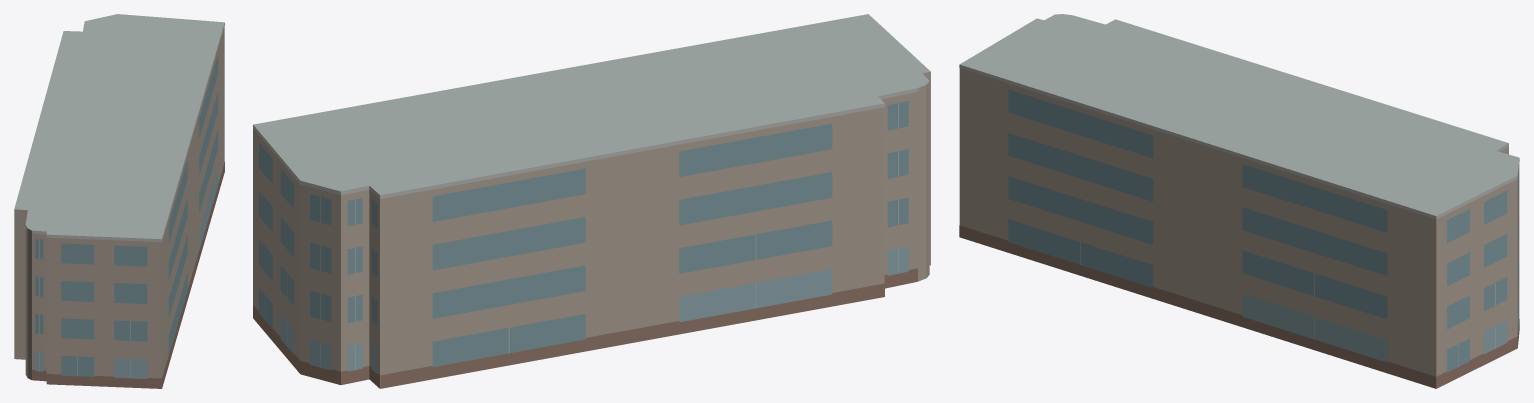
Rendered from survey-upis-32887071.glb.
3 views of the same model, side by side, from view 1: azimuth 30°, elevation 25°; view 2: azimuth 150°, elevation 25°; view 3: azimuth 270°, elevation 25° (orthographic). The views are drawn at different scales.
Parts seen in each view (by area): view 1: survey-upis-32887071.tmp; view 2: survey-upis-32887071.tmp; view 3: survey-upis-32887071.tmp.
Boxes of the visible parts, <box> form: survey-upis-32887071.tmp: <box>14,14,224,388</box>; survey-upis-32887071.tmp: <box>253,14,930,388</box>; survey-upis-32887071.tmp: <box>959,14,1519,388</box>.
Size of the model in its own units: 30.61 by 12.2 by 35.84.
